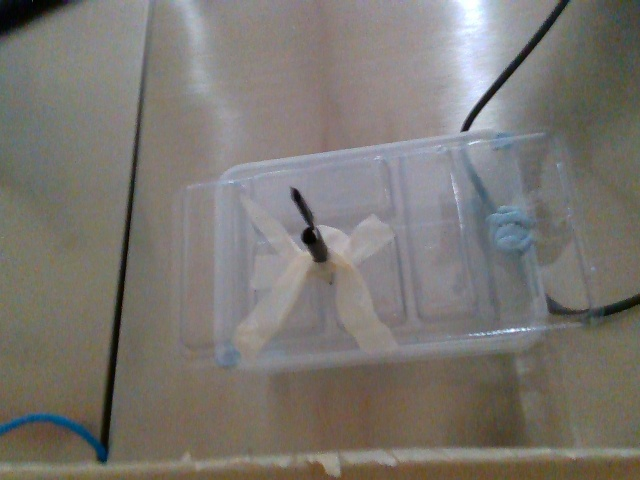test_strip: (288, 187, 318, 238)
